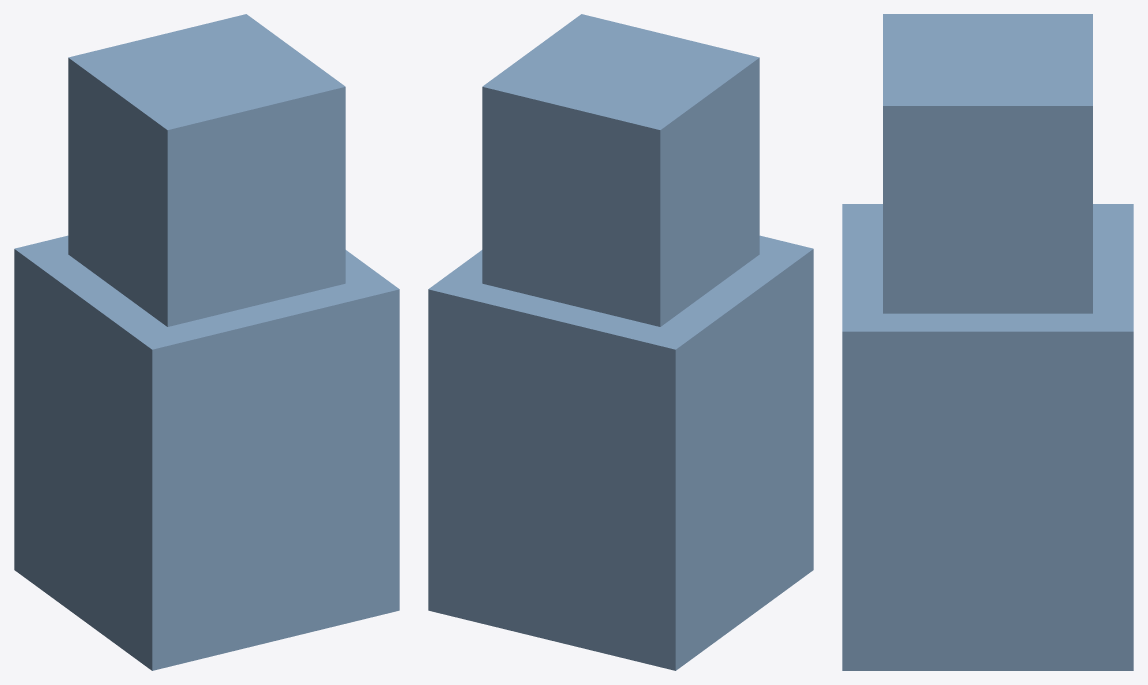
File: tower2_setback.glb
3 renders of one model, left to right at view 1: azimuth 30°, elevation 25°; view 2: azimuth 150°, elevation 25°; view 3: azimuth 270°, elevation 25°, orthographic. The views are drawn at different scales.
Parts seen in each view (by area): view 1: tower2_setback; view 2: tower2_setback; view 3: tower2_setback.
Part boxes in pixels (x1=…): tower2_setback: x1=14, y1=14, x2=399, y2=670; tower2_setback: x1=428, y1=14, x2=813, y2=670; tower2_setback: x1=842, y1=14, x2=1133, y2=670.
Bounding box in the file's own units: 1.45 × 2.9 × 1.4.
